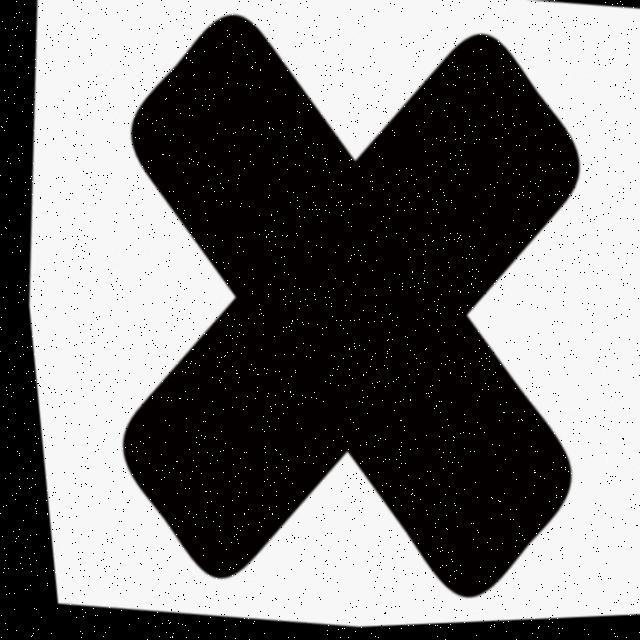cross: (100, 10, 618, 609)
